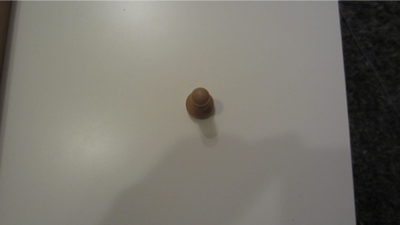white-pawn: (185, 87, 217, 120)
